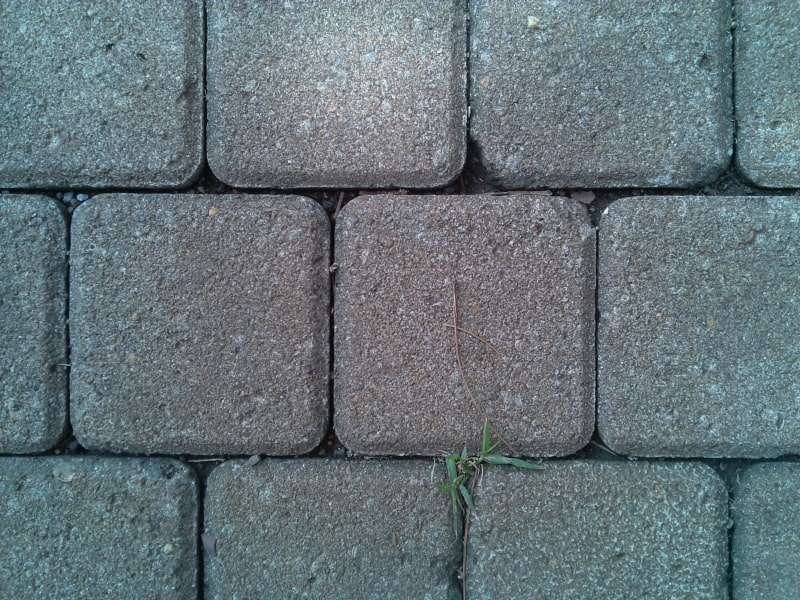Weed: (436, 450, 518, 496)
